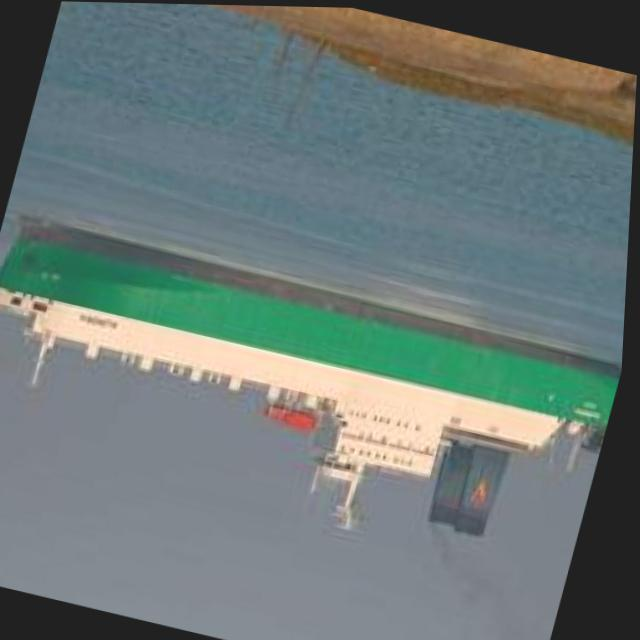ship2: (0, 209, 626, 561)
